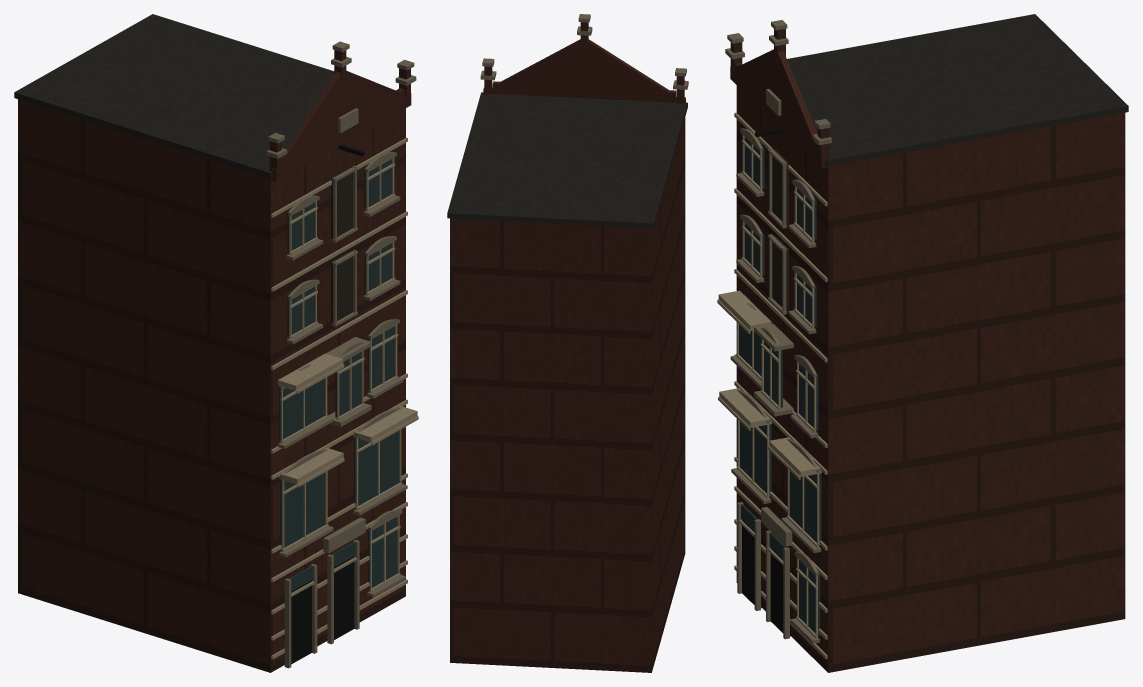
3 renders of one model, left to right at view 1: azimuth 30°, elevation 25°; view 2: azimuth 150°, elevation 25°; view 3: azimuth 270°, elevation 25°, orthographic. The views are drawn at different scales.
Visible parts, largest first — view 1: nieuwehaven53-55-0, nieuwehaven53-55-1, nieuwehaven53-55-5, nieuwehaven53-55-3, nieuwehaven53-55-2, nieuwehaven53-55-4, nieuwehaven53-55-6; view 2: nieuwehaven53-55-0, nieuwehaven53-55-1, nieuwehaven53-55-2; view 3: nieuwehaven53-55-0, nieuwehaven53-55-1, nieuwehaven53-55-3, nieuwehaven53-55-2, nieuwehaven53-55-5, nieuwehaven53-55-4, nieuwehaven53-55-6.
Part boxes in pixels (x1=…): nieuwehaven53-55-0: x1=18, y1=50, x2=411, y2=672; nieuwehaven53-55-1: x1=14, y1=14, x2=353, y2=317; nieuwehaven53-55-5: x1=279, y1=159, x2=399, y2=591; nieuwehaven53-55-3: x1=271, y1=137, x2=418, y2=659; nieuwehaven53-55-2: x1=266, y1=41, x2=416, y2=668; nieuwehaven53-55-4: x1=291, y1=145, x2=364, y2=664; nieuwehaven53-55-6: x1=331, y1=167, x2=353, y2=323; nieuwehaven53-55-0: x1=450, y1=22, x2=685, y2=672; nieuwehaven53-55-1: x1=447, y1=92, x2=687, y2=228; nieuwehaven53-55-2: x1=480, y1=14, x2=688, y2=89; nieuwehaven53-55-0: x1=730, y1=28, x2=1125, y2=672; nieuwehaven53-55-1: x1=772, y1=14, x2=1128, y2=295; nieuwehaven53-55-3: x1=717, y1=112, x2=827, y2=658; nieuwehaven53-55-2: x1=725, y1=20, x2=831, y2=643; nieuwehaven53-55-5: x1=739, y1=137, x2=821, y2=636; nieuwehaven53-55-4: x1=742, y1=128, x2=790, y2=636; nieuwehaven53-55-6: x1=772, y1=150, x2=788, y2=311.
Bounding box in the file's own units: 13.03 × 24.8 × 15.28.
Materials: 7 (7 with a texture image).
